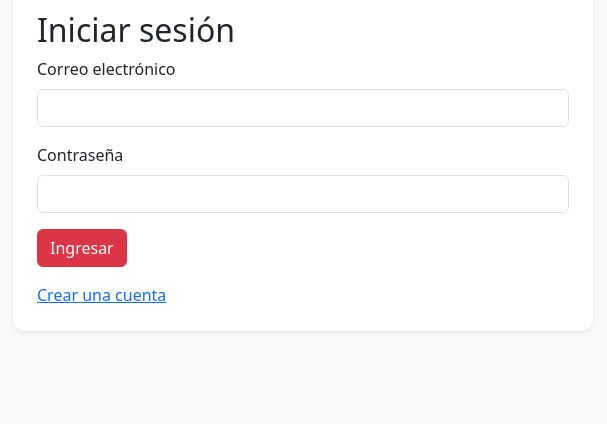
Test: Componentes React: renderizado, props, estado y eventos › el login rechaza una contraseña incorrecta
Step 1. Type "admin@duoc.cl" into the field labelled "Correo electrónico" → (303, 108), box [37, 89, 569, 127]
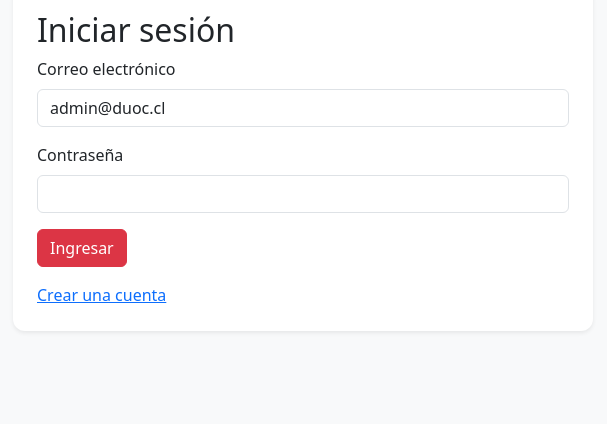
Step 2. Type "mala" into the password field labelled "Contraseña" → (303, 194), box [37, 175, 569, 213]
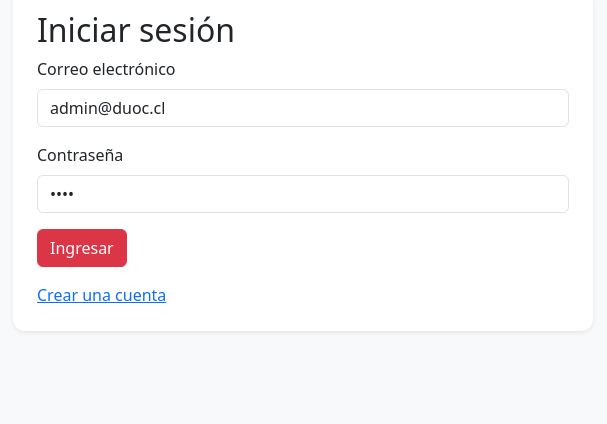
Step 3. Click the button "Ingresar" → (82, 248), box [37, 229, 127, 267]
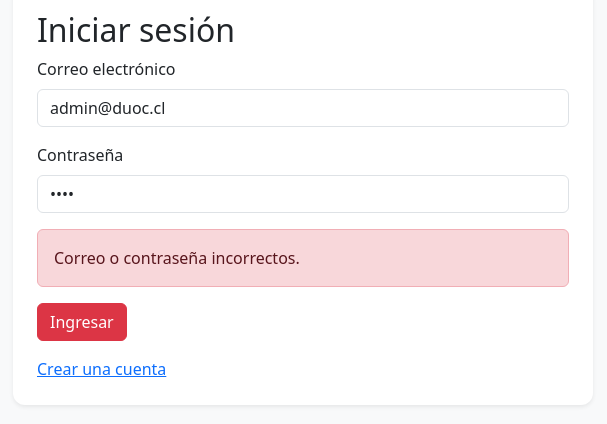
Expected: the message shows "incorrectos", [54, 247, 300, 269]
